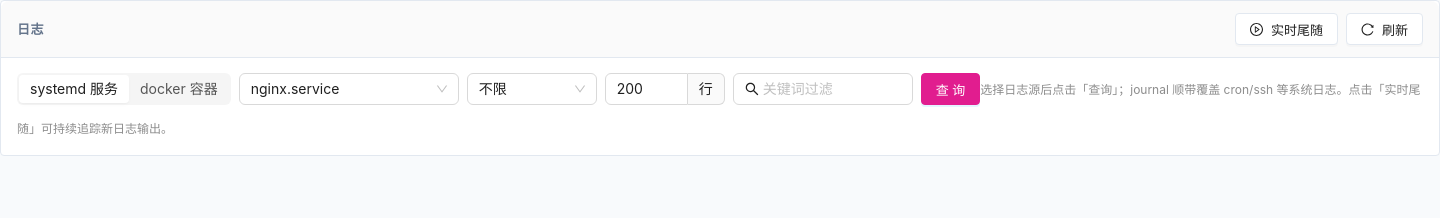
Scenario: LogsPanel › 半帧跨 chunk：无尾换行的残帧留 buf，待下一块补全后再解析
Expected: the text "nginx.service" is shown, [251,80,340,97]
Click the button "实时尾随" at (1286, 29), box [1235,13,1338,45]
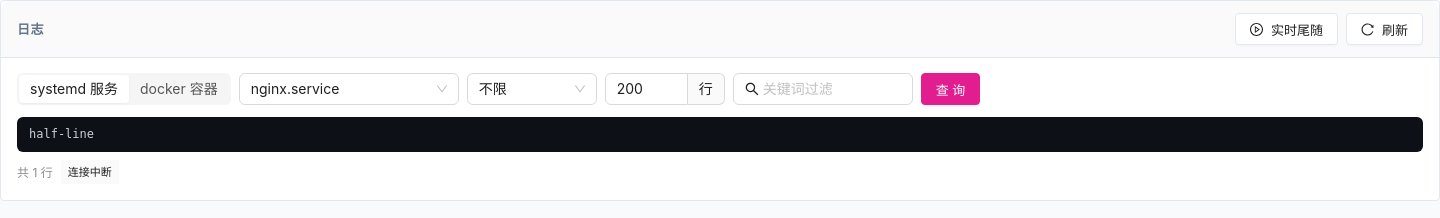
Expected: the text "half-line" is shown, [29,127,94,141]
Expected: the text "连接中断" is shown, [61,160,119,184]
